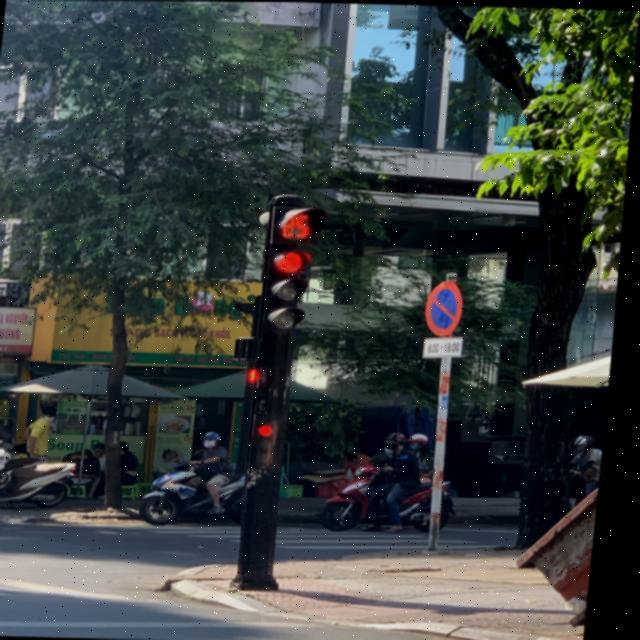Red: (264, 240, 319, 337), (255, 410, 295, 469)
